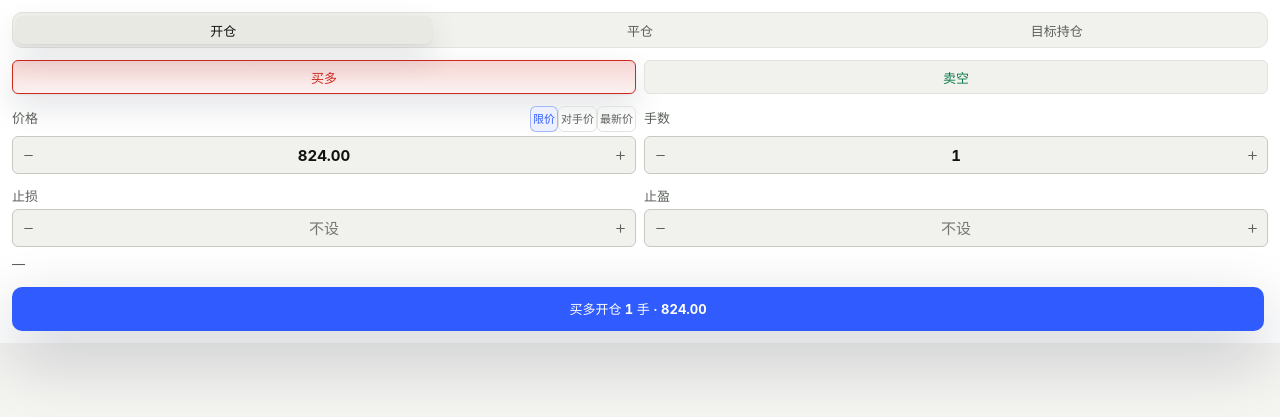
Test: TradeTicket 手数 / 委托价 / 目标持仓的输入校验（#789） › 止损填 -1 不当作不设：说明原因并禁用确认
This screenshot has width=1280, height=417.
Type "-1" into the number field with test id "stop-loss-input" at (324, 228), box [43,218,605,238]
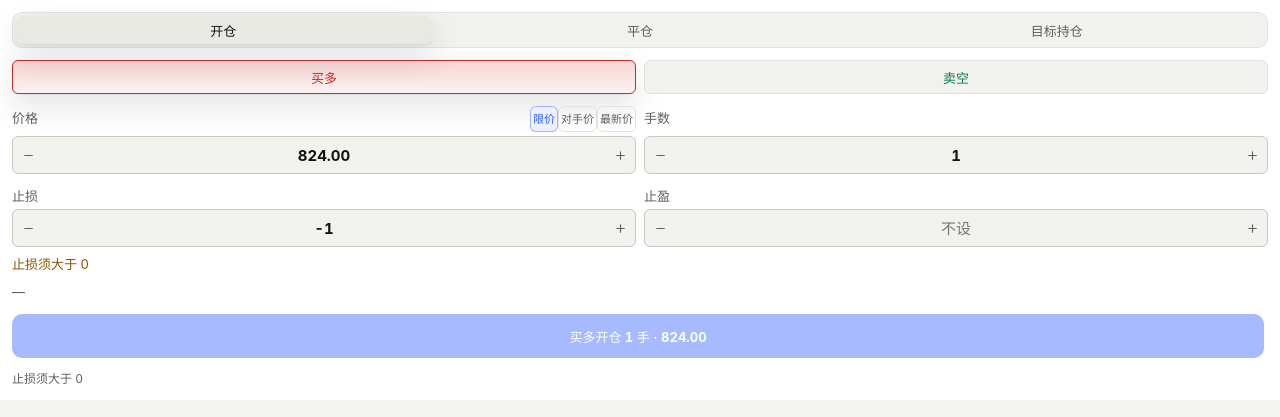
Expected: the text with test id "ticket-protection-estimate" reads "止损须大于 0", [12,256,89,272]
Expected: the button "买多开仓 1 手 · 824.00" is disabled, [12,314,1264,358]
